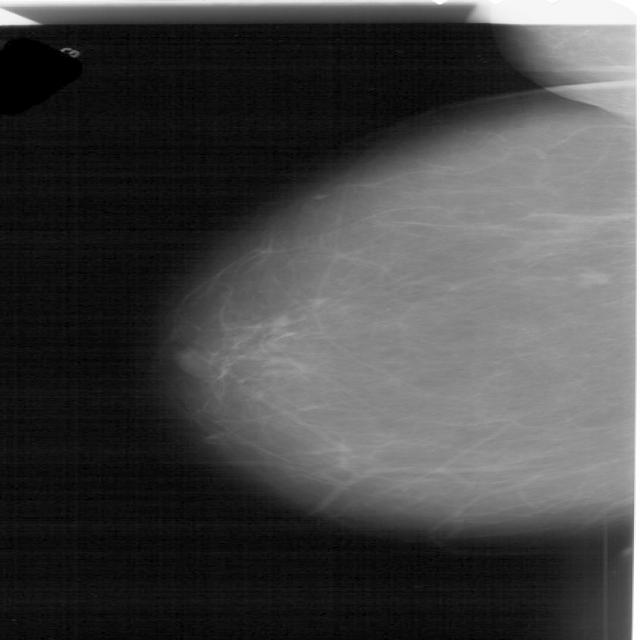tumour: (576, 266, 611, 286)
